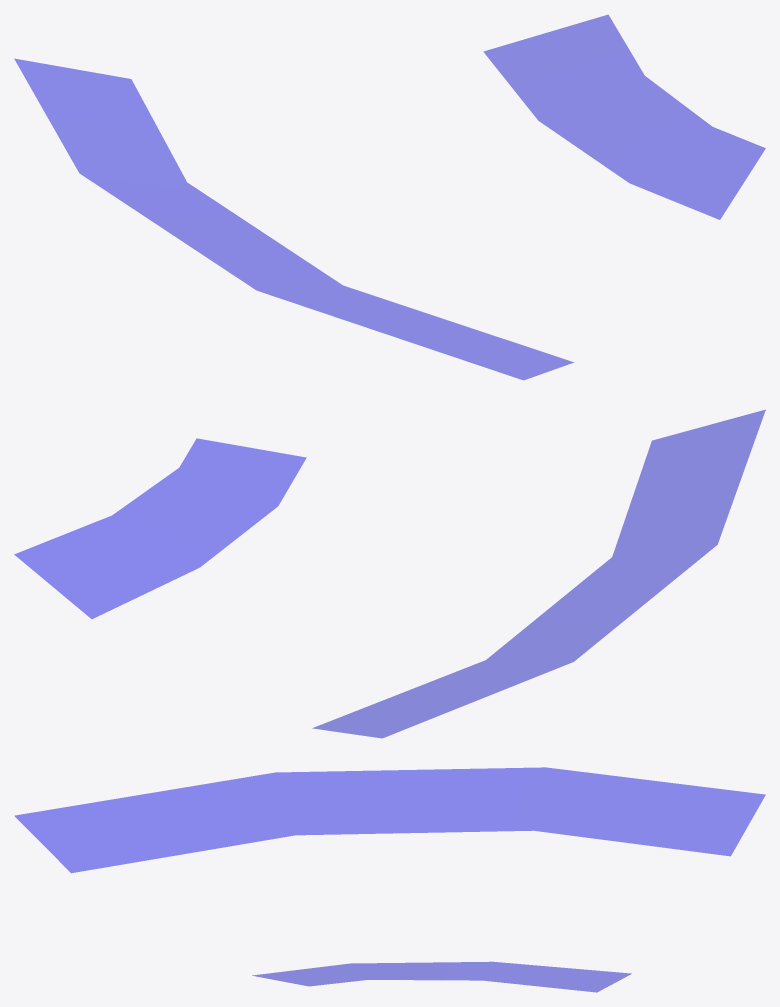
The model's file is track_la_coll_off_24.fbx.
3 renders of one model, top to bottom at view 1: azimuth 30°, elevation 25°; view 2: azimuth 150°, elevation 25°; view 3: azimuth 270°, elevation 25°, orthographic. The views are drawn at different scales.
Parts seen in each view (by area): view 1: track_la_coll_off_24; view 2: track_la_coll_off_24; view 3: track_la_coll_off_24.
Part boxes in pixels (x1,y1,x2,y2): track_la_coll_off_24: (14,15,765,380); track_la_coll_off_24: (14,409,765,738); track_la_coll_off_24: (15,767,765,992).
Size of the model in its own units: 37.96 by 1.84 by 53.68.
